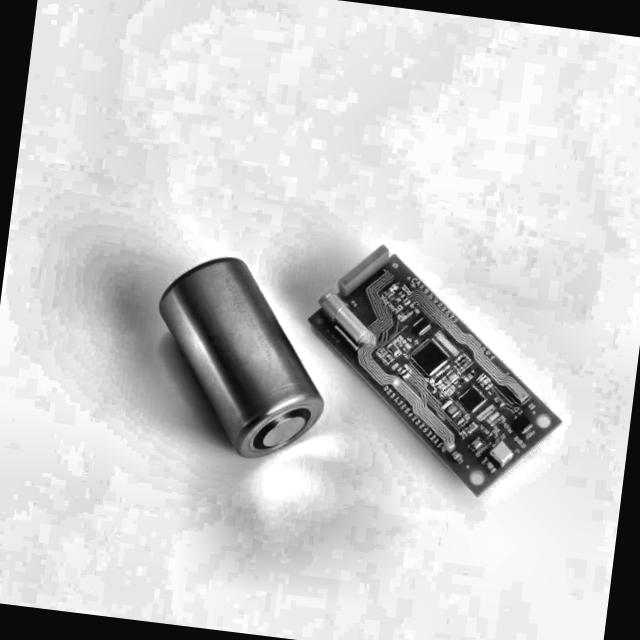Battery: (140, 235, 340, 483)
PCB: (289, 224, 583, 522)
